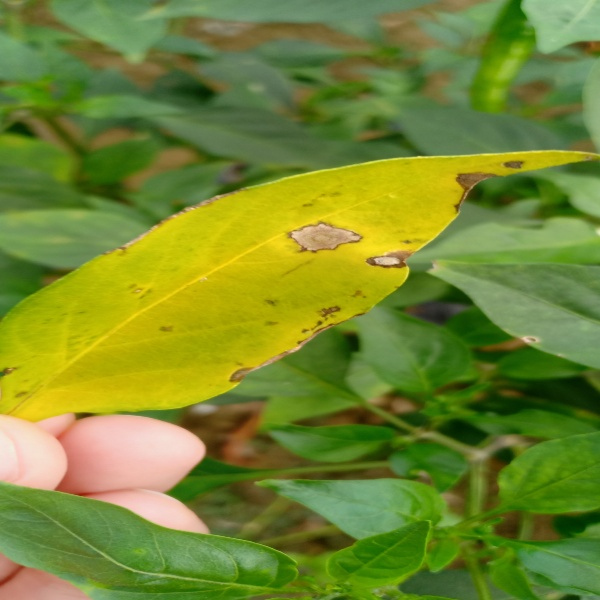Anthrax: (109, 159, 534, 384), (1, 363, 39, 401)
